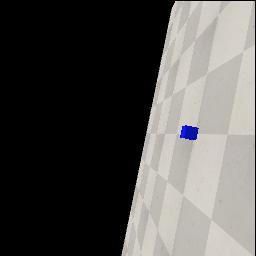box: (180, 125, 199, 140)
